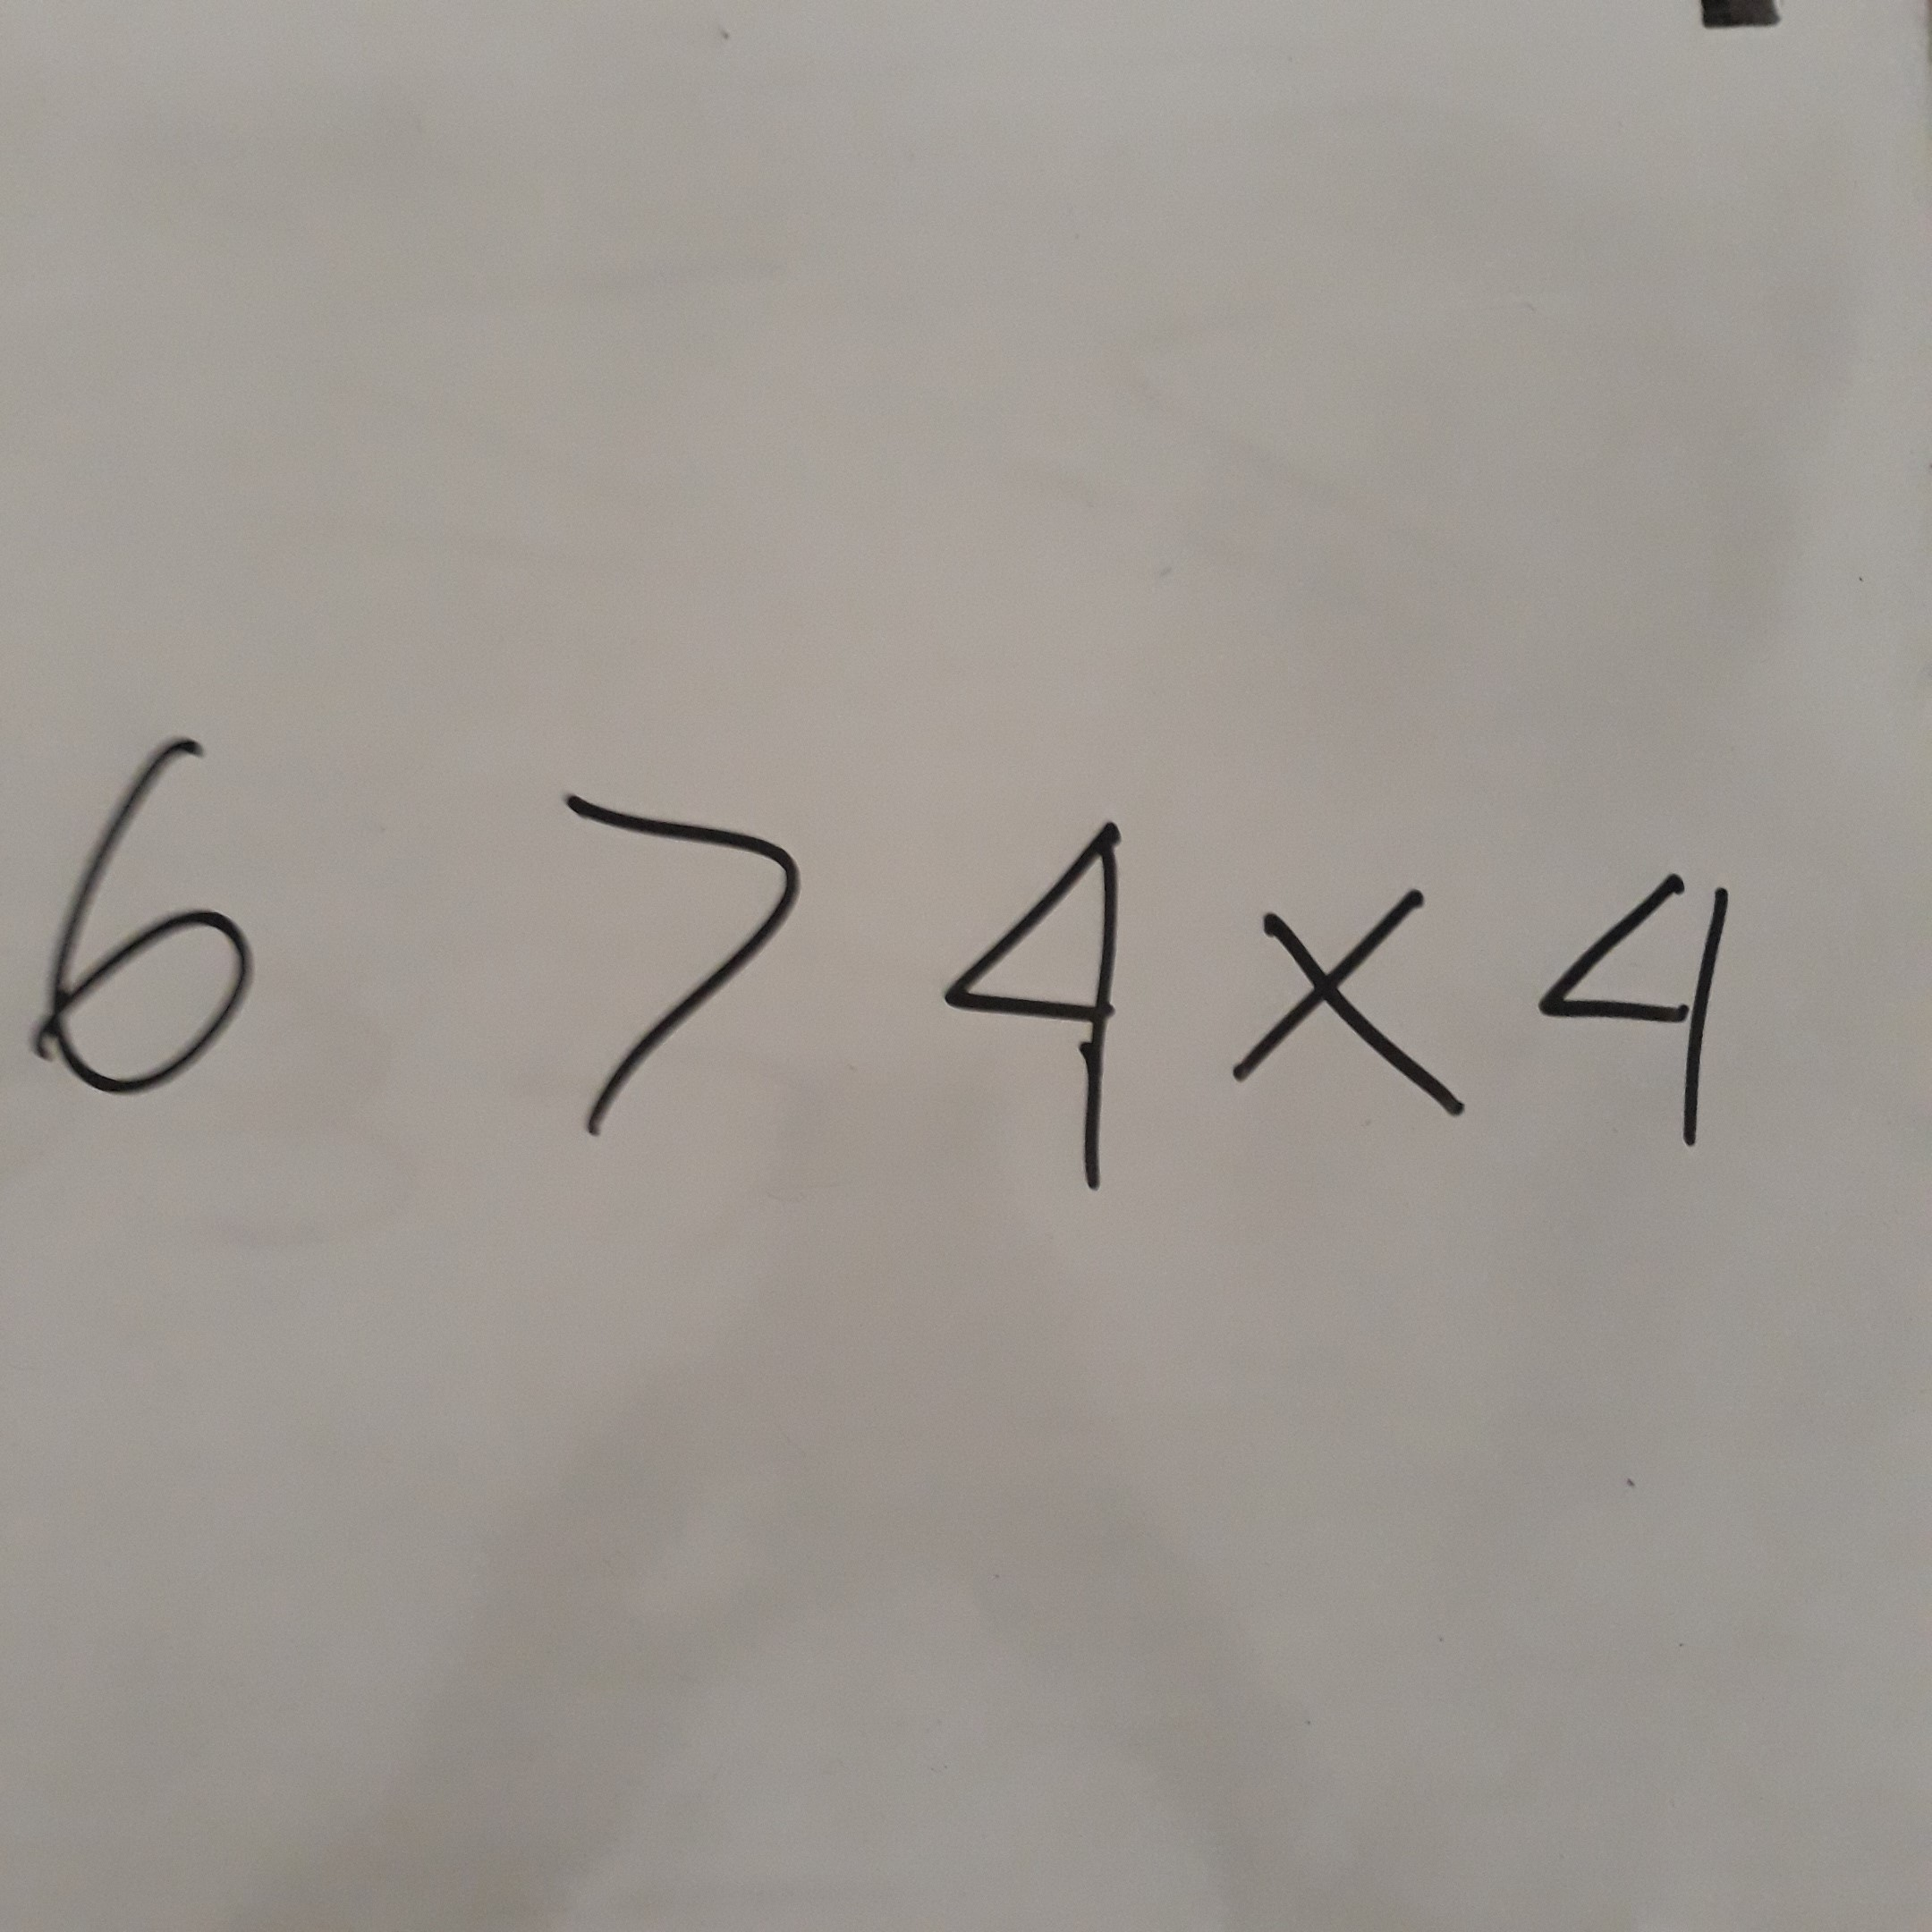morethan: (537, 756, 820, 1150)
multi: (1211, 846, 1476, 1143)
num4: (913, 810, 1197, 1205), (1519, 852, 1782, 1186)
num6: (22, 711, 315, 1123)
